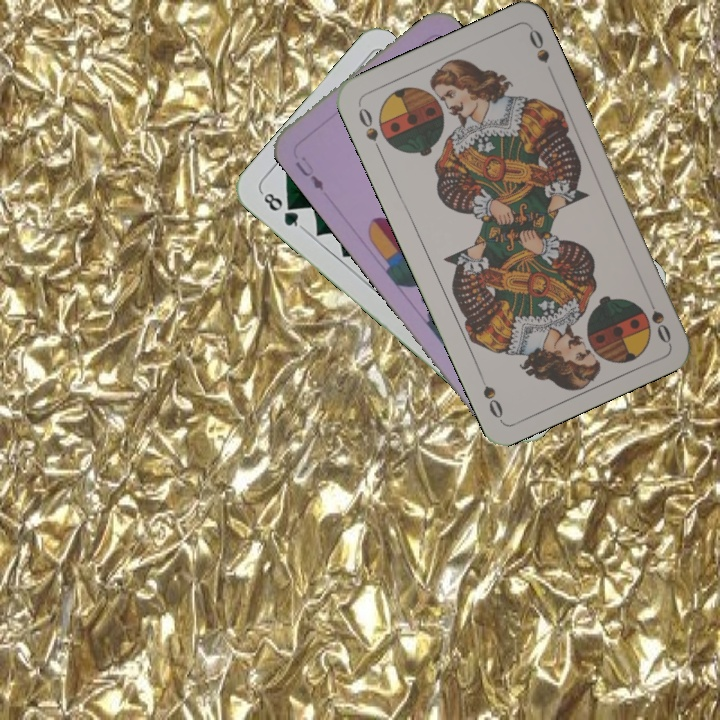EU: (290, 155, 327, 193)
G8: (257, 186, 306, 231)
SO: (641, 290, 674, 346), (354, 101, 385, 157)
